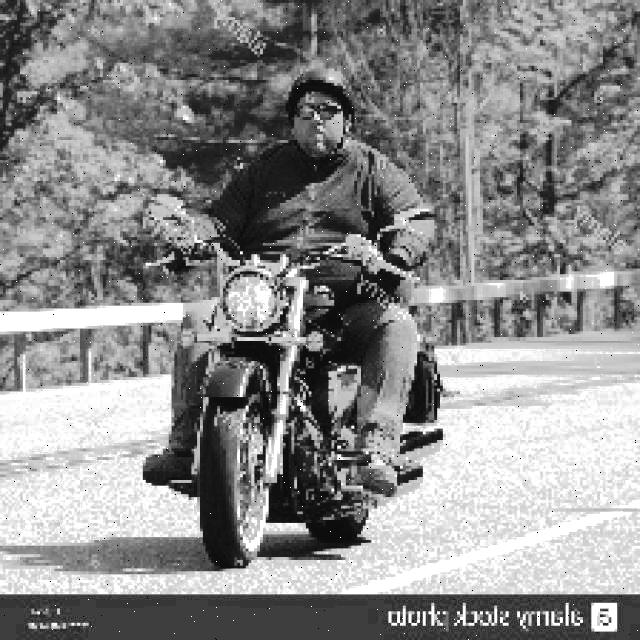Bike: (169, 219, 376, 565)
